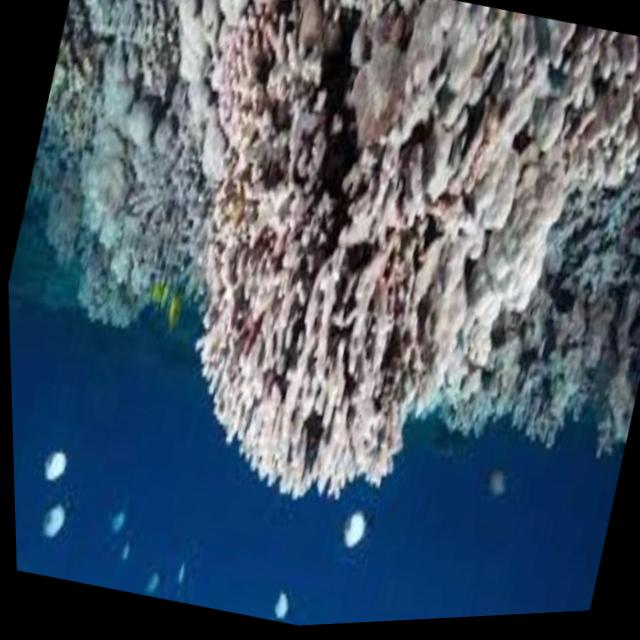Dead Coral: (56, 0, 640, 590)
